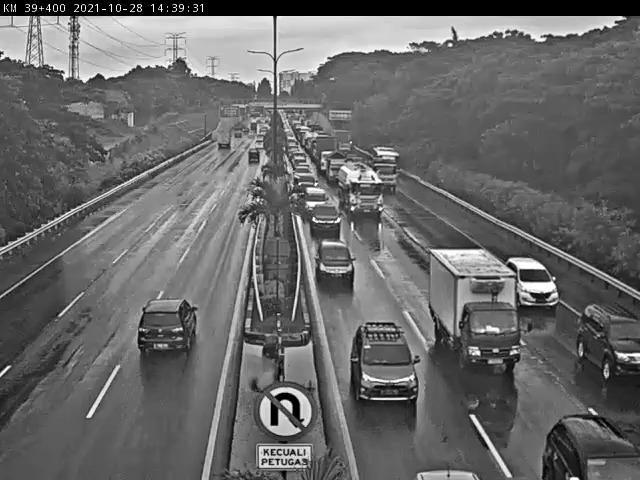big truck: (334, 162, 382, 219)
car: (344, 305, 428, 413), (531, 410, 640, 480), (131, 292, 217, 370), (576, 297, 640, 374), (494, 253, 561, 315), (312, 230, 354, 289), (305, 199, 344, 237), (241, 146, 265, 165)
small truck: (419, 243, 526, 381), (369, 155, 399, 193), (209, 126, 239, 152)
